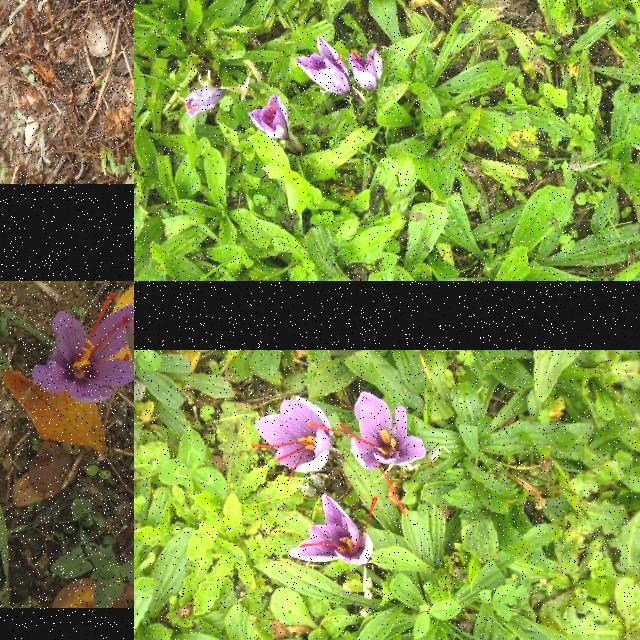flower: (305, 392, 427, 516), (32, 295, 134, 403), (249, 396, 333, 479), (290, 495, 378, 565), (294, 38, 352, 96), (248, 94, 292, 146), (351, 49, 385, 91), (184, 86, 228, 118)
